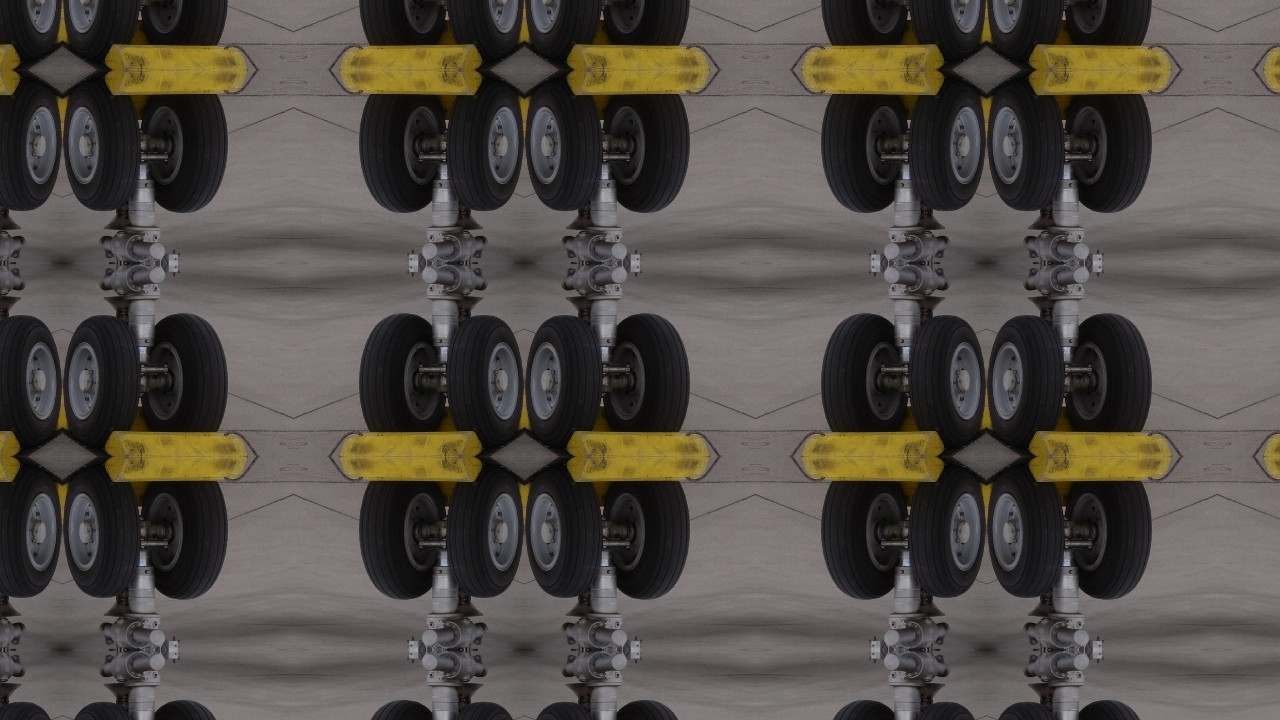chock: (101, 31, 250, 69), (336, 31, 485, 69), (799, 31, 948, 69), (1026, 31, 1175, 69), (101, 69, 250, 107), (336, 69, 485, 107), (799, 69, 948, 107), (1026, 69, 1175, 107), (101, 419, 250, 457), (336, 419, 485, 457), (799, 419, 948, 457), (1026, 419, 1175, 457), (101, 457, 250, 495), (336, 457, 485, 495), (799, 457, 948, 495), (1026, 457, 1175, 495), (564, 31, 712, 69), (564, 69, 712, 107), (564, 419, 712, 457), (564, 457, 712, 495), (0, 31, 22, 69), (0, 69, 22, 107), (0, 419, 22, 457), (0, 457, 22, 495), (1262, 31, 1280, 69), (1262, 69, 1280, 107), (1262, 419, 1280, 457), (1262, 457, 1280, 495)
wheel: (599, 87, 703, 220), (599, 306, 703, 439), (599, 474, 703, 607), (137, 87, 240, 220), (346, 87, 449, 220), (809, 87, 912, 220), (1062, 87, 1165, 220), (137, 306, 240, 439), (346, 306, 449, 439), (809, 306, 912, 439), (1062, 306, 1165, 439), (137, 474, 240, 607), (346, 474, 449, 607), (809, 474, 912, 607), (1062, 474, 1165, 607), (62, 74, 147, 217), (439, 74, 524, 217), (524, 74, 609, 217), (902, 74, 987, 217), (987, 74, 1072, 217), (62, 309, 147, 452), (439, 309, 524, 452), (524, 309, 609, 452), (902, 309, 987, 452), (987, 309, 1072, 452), (62, 462, 147, 605), (439, 462, 524, 605), (524, 462, 609, 605), (902, 462, 987, 605), (987, 462, 1072, 605), (0, 74, 62, 217), (0, 309, 62, 452), (0, 462, 62, 605), (62, 0, 147, 64), (439, 0, 524, 64), (524, 0, 609, 64), (902, 0, 987, 64), (987, 0, 1072, 64), (599, 0, 703, 52), (137, 0, 240, 52), (346, 0, 449, 52), (809, 0, 912, 52), (1062, 0, 1165, 52), (0, 0, 62, 64), (599, 693, 703, 720), (137, 693, 240, 720), (346, 693, 449, 720), (809, 693, 912, 720), (1062, 693, 1165, 720), (62, 696, 147, 720), (439, 696, 524, 720), (524, 696, 609, 720), (902, 696, 987, 720), (987, 696, 1072, 720), (0, 696, 62, 720), (1271, 87, 1280, 220), (1271, 306, 1280, 439), (1271, 474, 1280, 607)
